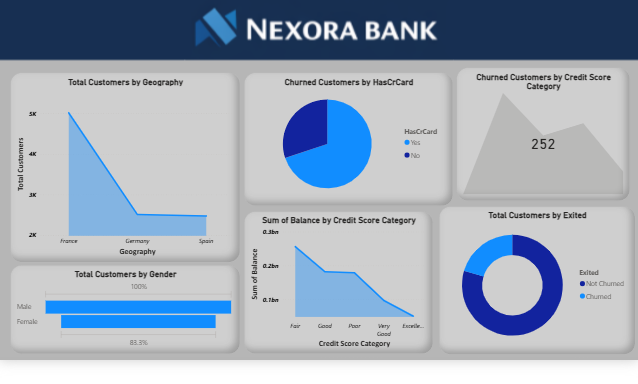

This screenshot's page, from the dashboard's own definition file:
{"tool":"powerbi","page":{"name":"Financial Risk Analysis Page","canvas":[1280,720],"ordinal":2},"visuals":[{"type":"donutChart","fields":{"Y":["Nexora_Bank_Churn_Cleaned.Total Customers"],"Category":["Nexora_Bank_Churn_Cleaned.Exited"]},"box":[880,411.4,392.9,297.1],"z":0},{"type":"areaChart","fields":{"Category":["Nexora_Bank_Churn_Cleaned.Geography"],"Y":["Nexora_Bank_Churn_Cleaned.Total Customers"]},"box":[22.9,144.3,460,380],"z":1000},{"type":"funnel","fields":{"Category":["Nexora_Bank_Churn_Cleaned.Gender"],"Y":["Nexora_Bank_Churn_Cleaned.Total Customers"]},"box":[22.9,530,460,178.6],"z":2000},{"type":"pieChart","fields":{"Y":["Nexora_Bank_Churn_Cleaned.Churned Customers"],"Category":["Nexora_Bank_Churn_Cleaned.HasCrCard"]},"box":[490,144.3,418.6,267.1],"z":3000},{"type":"areaChart","fields":{"Category":["Nexora_Bank_Churn_Cleaned.Credit Score Category"],"Y":["Sum(Nexora_Bank_Churn_Cleaned.Balance)"]},"box":[490,422.9,378.6,285.7],"z":4000},{"type":"kpi","fields":{"TrendLine":["Nexora_Bank_Churn_Cleaned.Credit Score Category"],"Indicator":["Nexora_Bank_Churn_Cleaned.Churned Customers"]},"box":[915.7,134.3,347.1,267.1],"z":5000}]}

Visuals, with their boxes on the page's 1280x720 design canvas (x1, y1, x2, y2). These are canvas units, not pixel positions in the 638x384 screenshot, which may show the page scaled, cropped or inside an application window:
donutChart - Nexora_Bank_Churn_Cleaned.Total Customers x Nexora_Bank_Churn_Cleaned.Exited: Rect(880, 411, 1273, 708)
areaChart - Nexora_Bank_Churn_Cleaned.Geography x Nexora_Bank_Churn_Cleaned.Total Customers: Rect(23, 144, 483, 524)
funnel - Nexora_Bank_Churn_Cleaned.Gender x Nexora_Bank_Churn_Cleaned.Total Customers: Rect(23, 530, 483, 709)
pieChart - Nexora_Bank_Churn_Cleaned.Churned Customers x Nexora_Bank_Churn_Cleaned.HasCrCard: Rect(490, 144, 909, 411)
areaChart - Nexora_Bank_Churn_Cleaned.Credit Score Category x Sum(Nexora_Bank_Churn_Cleaned.Balance): Rect(490, 423, 869, 709)
kpi - Nexora_Bank_Churn_Cleaned.Credit Score Category x Nexora_Bank_Churn_Cleaned.Churned Customers: Rect(916, 134, 1263, 401)
